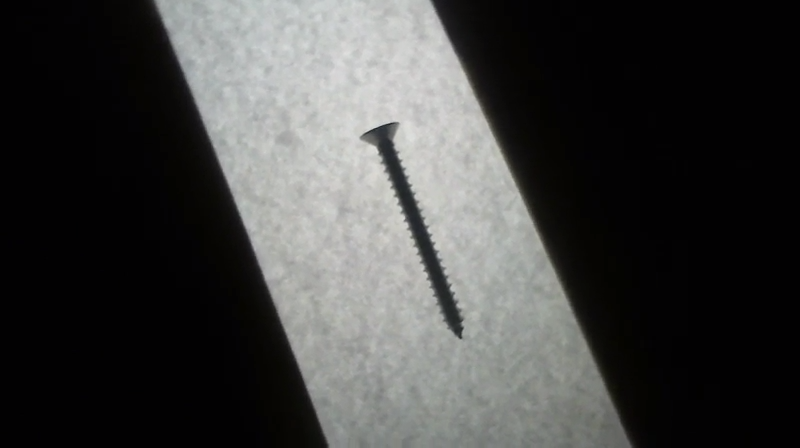S002: (355, 119, 466, 342)
